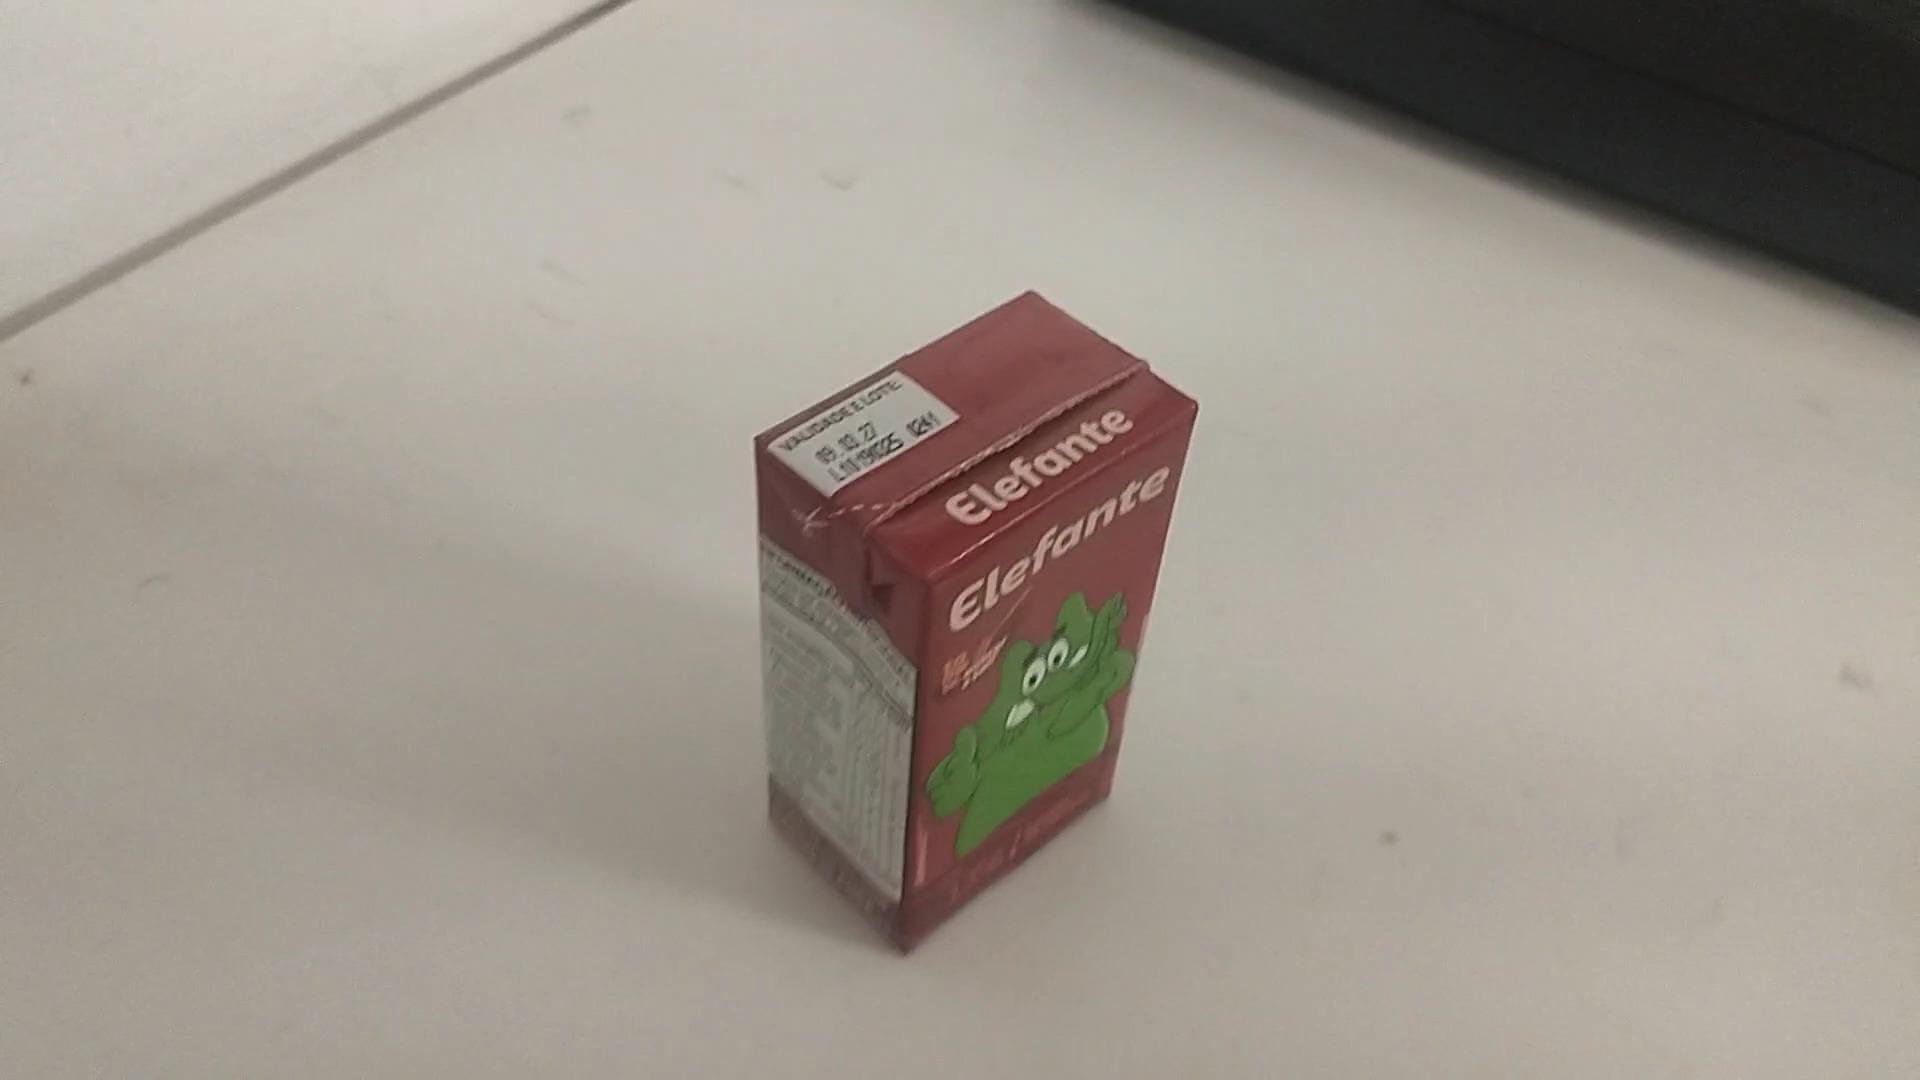tomate: (744, 266, 1203, 944)
